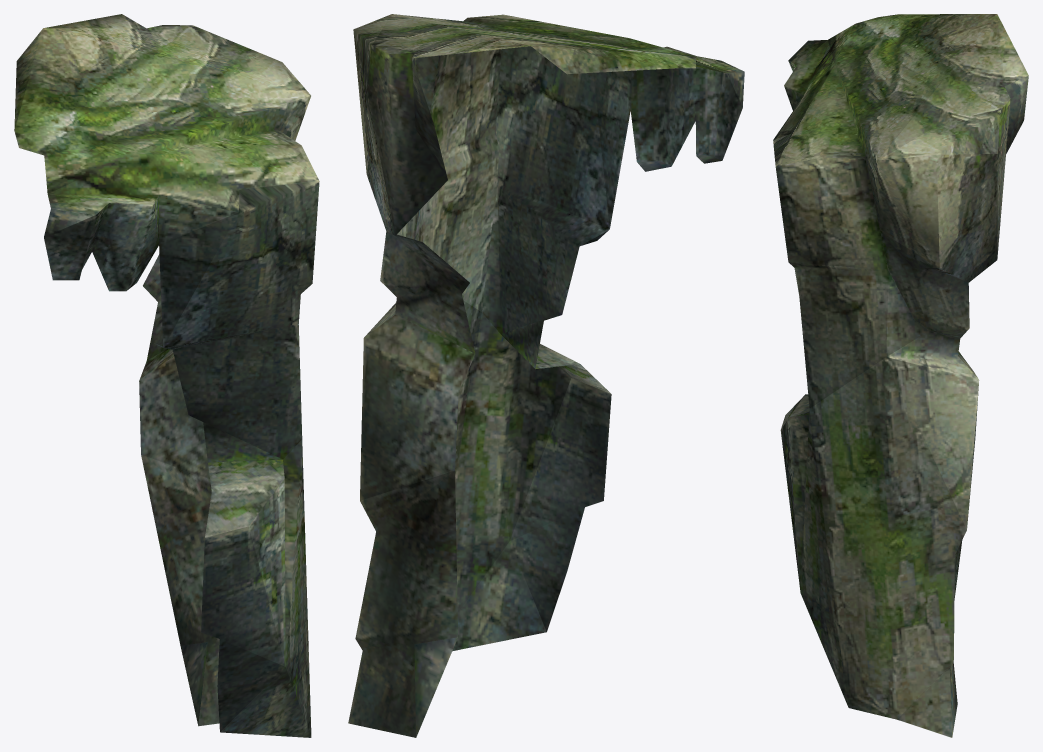
File: S_Rock_Green047_1060_10.fbx
The picture shows the model from 3 angles, left to right: view 1: azimuth 30°, elevation 25°; view 2: azimuth 150°, elevation 25°; view 3: azimuth 270°, elevation 25°; orthographic projection. The views are drawn at different scales.
Visible parts, largest first — view 1: S_Rock_Green047_1060_10; view 2: S_Rock_Green047_1060_10; view 3: S_Rock_Green047_1060_10.
Boxes of the visible parts, x1,y1,x2,y2 form: S_Rock_Green047_1060_10: (14,14,319,737); S_Rock_Green047_1060_10: (348,14,744,737); S_Rock_Green047_1060_10: (773,14,1028,737).
Size of the model in its own units: 971 by 2176 by 792.
Materials: 1 (1 with a texture image).
